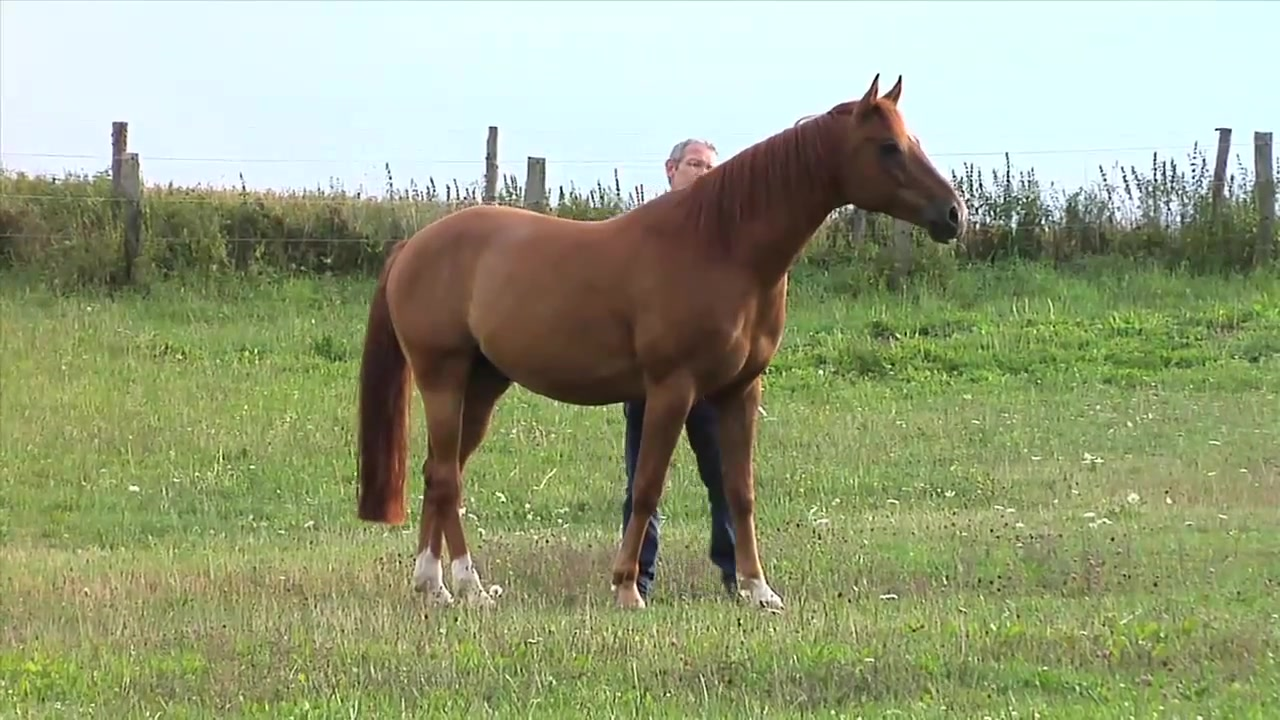horse: (355, 73, 971, 615)
